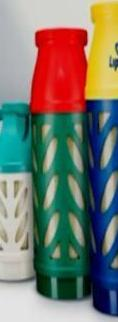cylinder: (1, 1, 118, 322)
